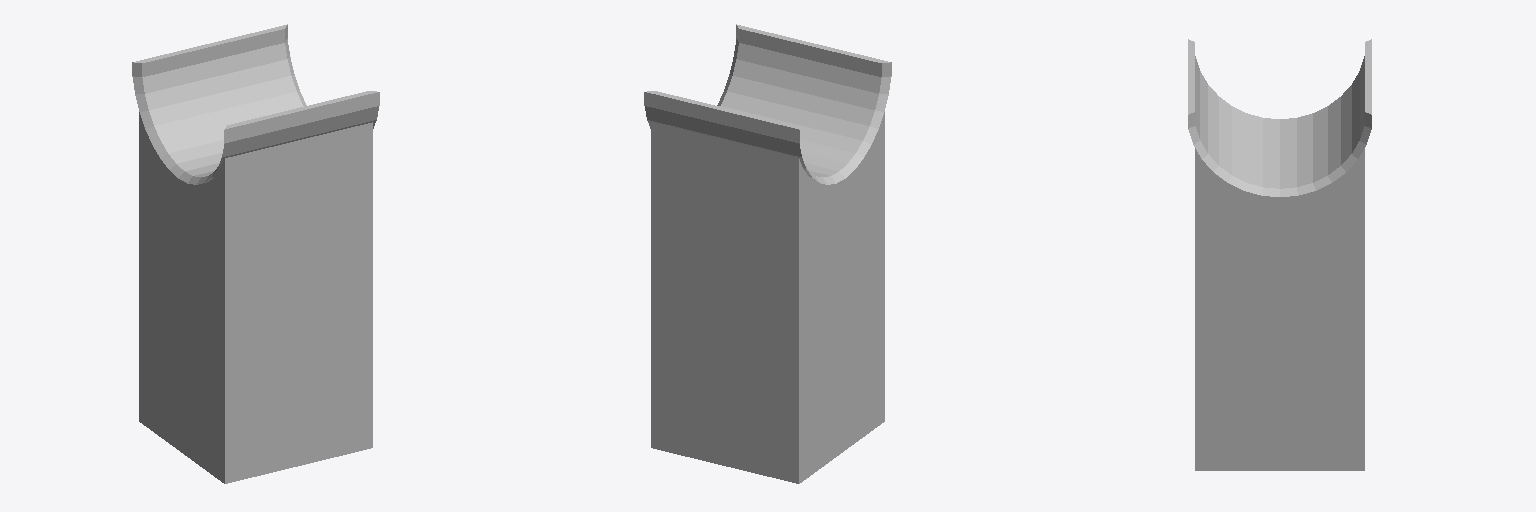
The model's file is Halfpipe2.obj.
3 views of the same model, side by side, from view 1: azimuth 30°, elevation 25°; view 2: azimuth 150°, elevation 25°; view 3: azimuth 270°, elevation 25° (orthographic).
Visible parts, largest first — view 1: HalfpipeBuilding; view 2: HalfpipeBuilding; view 3: HalfpipeBuilding.
Part boxes in pixels (bbox=[...]): HalfpipeBuilding: bbox=[132, 24, 379, 483]; HalfpipeBuilding: bbox=[644, 24, 891, 483]; HalfpipeBuilding: bbox=[1188, 39, 1371, 470].
Bounding box in the file's own units: 94.35 × 208 × 96.92.